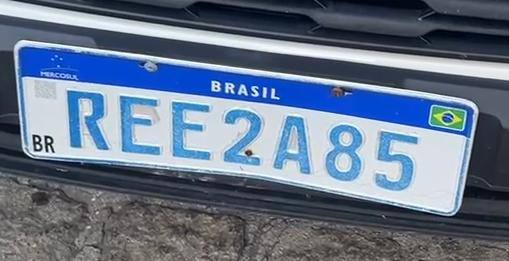Placa_mercosul_carro: (14, 41, 478, 216)
